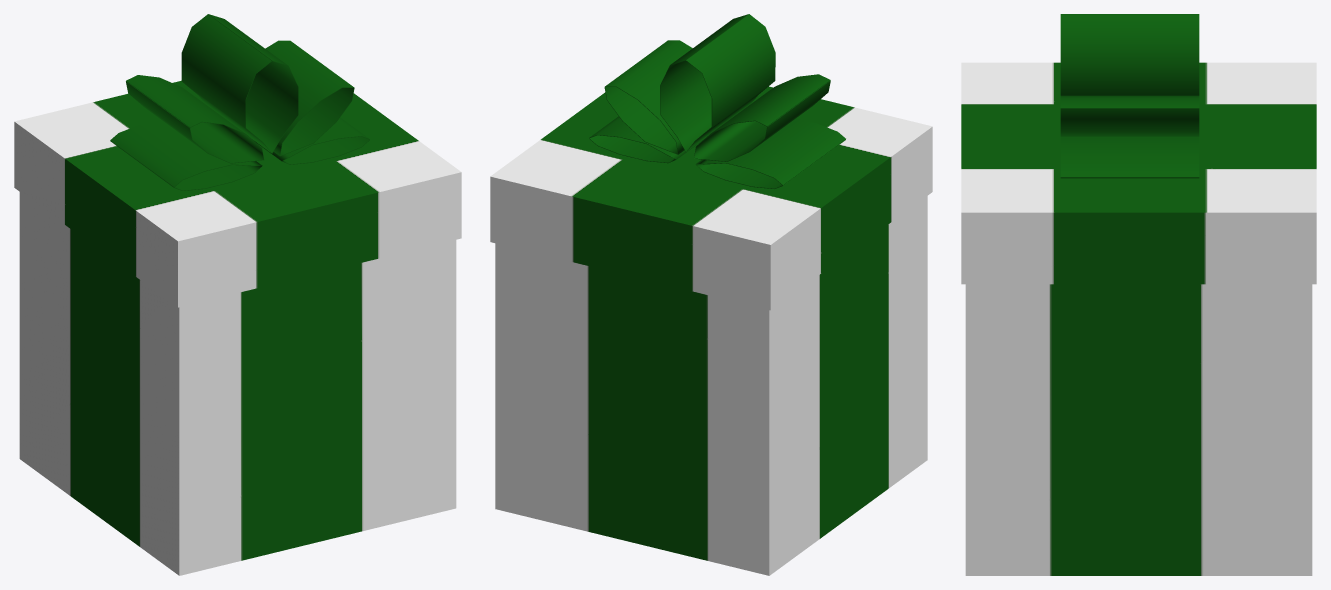
The model's file is present_plain_ver7.fbx.
The picture shows the model from 3 angles, left to right: view 1: azimuth 30°, elevation 25°; view 2: azimuth 150°, elevation 25°; view 3: azimuth 270°, elevation 25°; orthographic projection. The views are drawn at different scales.
Parts seen in each view (by area): view 1: Box, Top; view 2: Box, Top; view 3: Box, Top.
Part boxes in pixels (bbox=[...]): Box: bbox=[19, 192, 456, 575]; Top: bbox=[14, 14, 461, 307]; Box: bbox=[495, 196, 927, 575]; Top: bbox=[490, 14, 932, 310]; Box: bbox=[965, 284, 1312, 575]; Top: bbox=[961, 14, 1316, 284].
Bounding box in the file's own units: 10.24 × 15.52 × 10.24.
